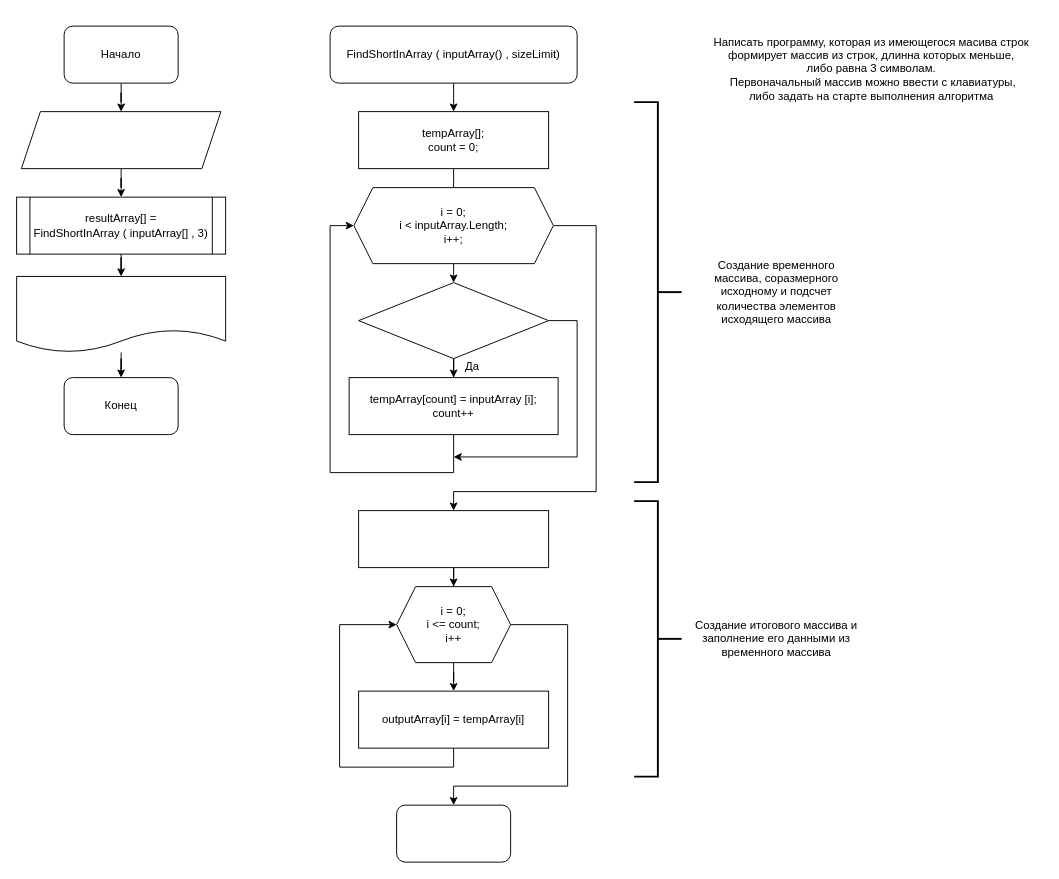
Some shapes in this 1059 by 879 pixel diagram are drawn without their labels. The box of each missing label's shape, as (x1, y1, x2, y2) in pixels:
inputArray[]: (20, 111, 221, 169)
inputArray[] -> resultArray[]: (16, 276, 226, 352)
inputArray[i].Length <= sizeLimit: (358, 282, 549, 359)
outputArray: (396, 804, 511, 862)
string[] outputArray: (358, 510, 549, 568)
